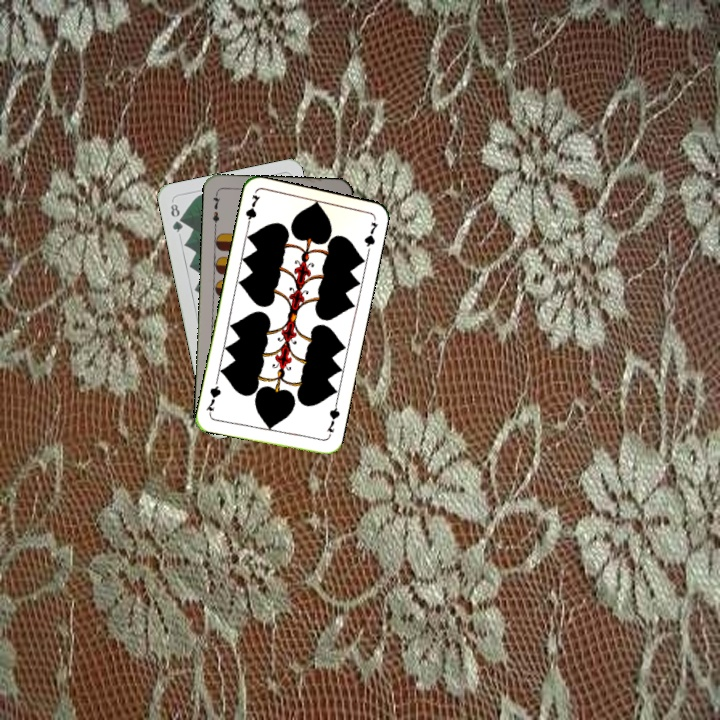E7: (209, 189, 223, 229)
G7: (242, 190, 263, 231), (323, 400, 342, 440)
G8: (166, 200, 186, 235)
